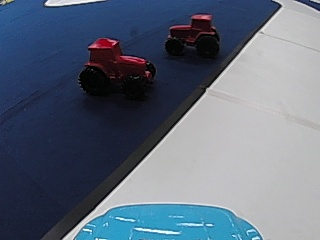tractor: (76, 35, 155, 98), (163, 11, 222, 59)
